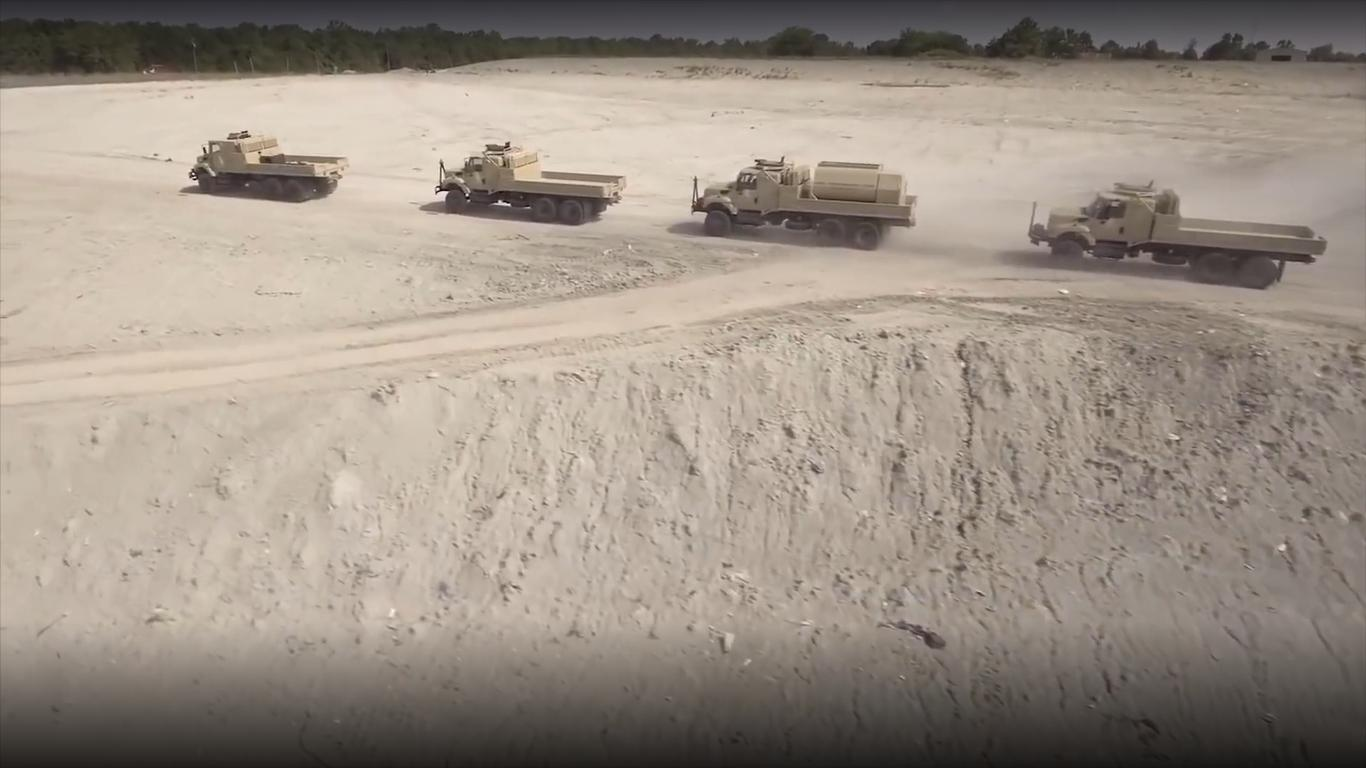truck: (1025, 180, 1327, 290), (690, 156, 917, 251), (432, 142, 626, 226), (187, 130, 350, 202)
